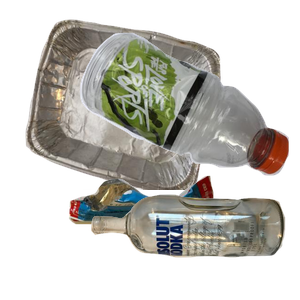glass: (88, 192, 300, 300)
metal: (23, 17, 236, 197)
plastic: (77, 30, 300, 198)
trash: (66, 173, 272, 300)
